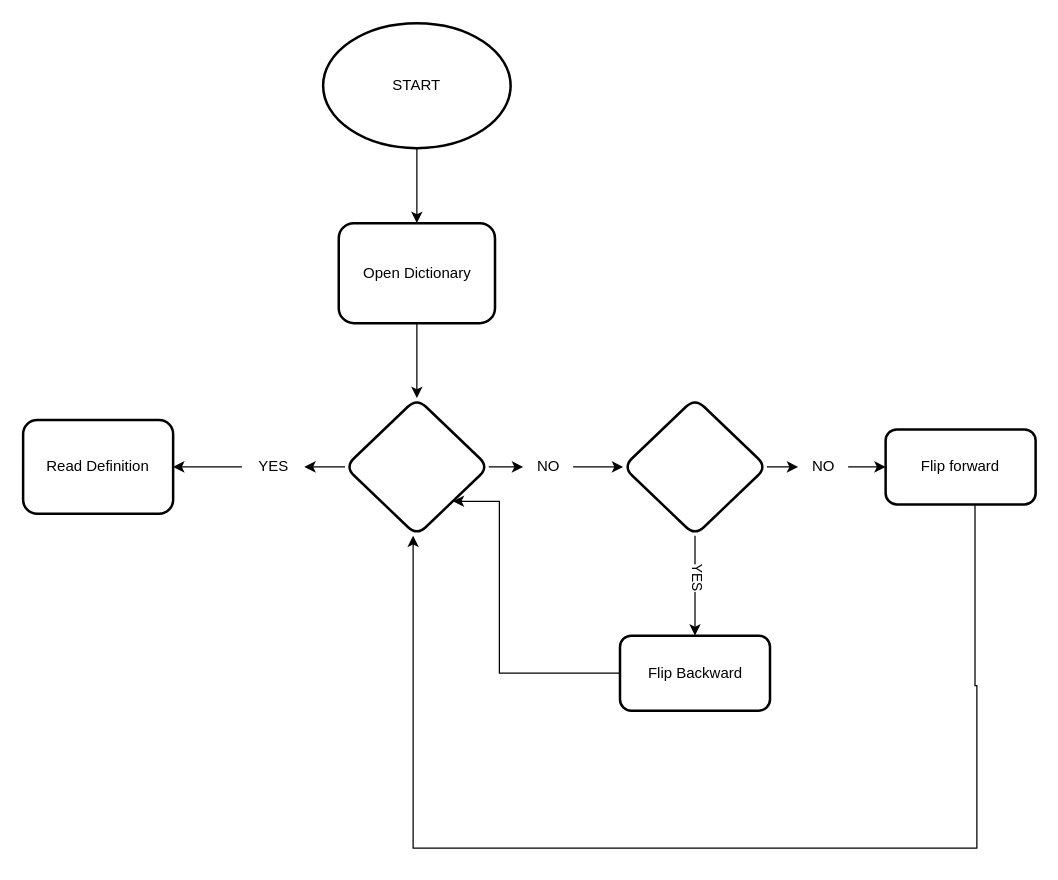
Image size: 1058x880. Some labels were removed from this diagram. The centre of each missing label's shape, as x and y in pixels:
"Is word before current page?" goes at point (694, 466).
"Is word found?" goes at point (416, 466).
